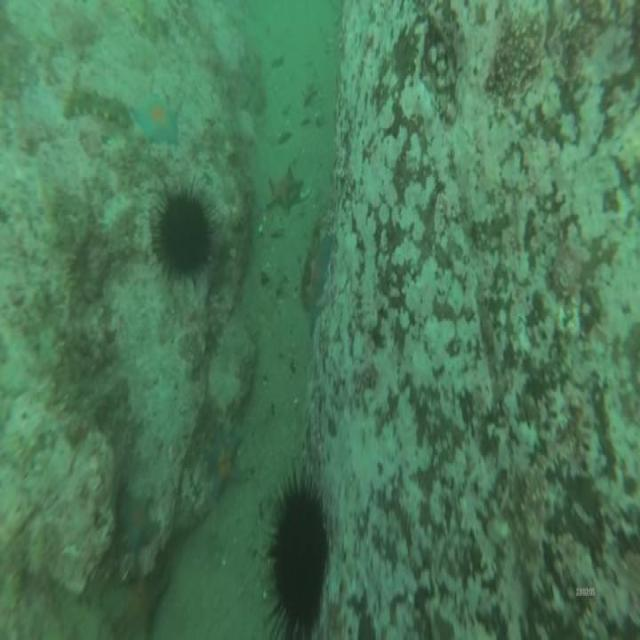echinus: (273, 488, 325, 629), (161, 199, 210, 272)
holothurian: (62, 89, 132, 131), (126, 0, 158, 40)
starfish: (204, 432, 242, 494), (133, 90, 176, 144), (120, 496, 154, 548), (308, 234, 330, 305), (267, 166, 297, 215)
